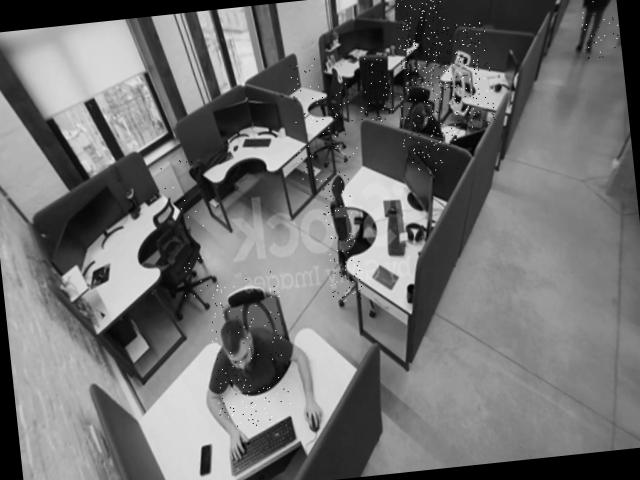empty chair: (286, 49, 362, 183), (157, 156, 219, 308), (437, 22, 496, 130), (393, 0, 453, 94), (320, 175, 364, 303), (353, 54, 399, 126)
occupiedchair: (205, 270, 292, 430), (398, 87, 460, 174)
